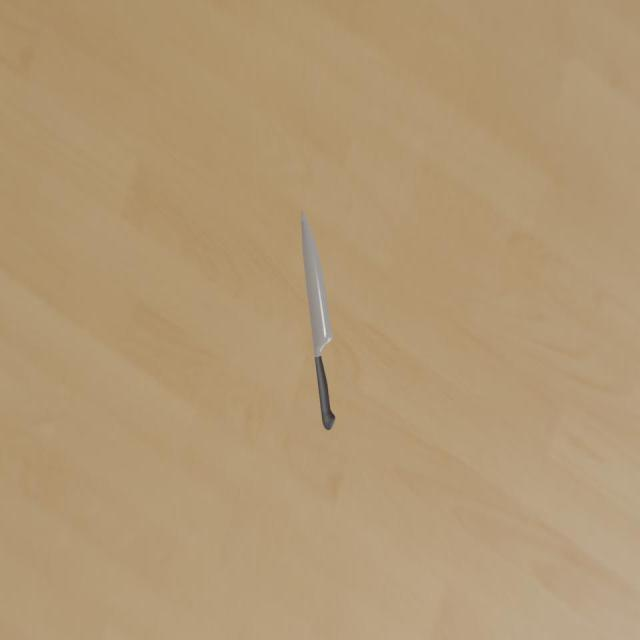knife: (315, 354, 335, 430)
